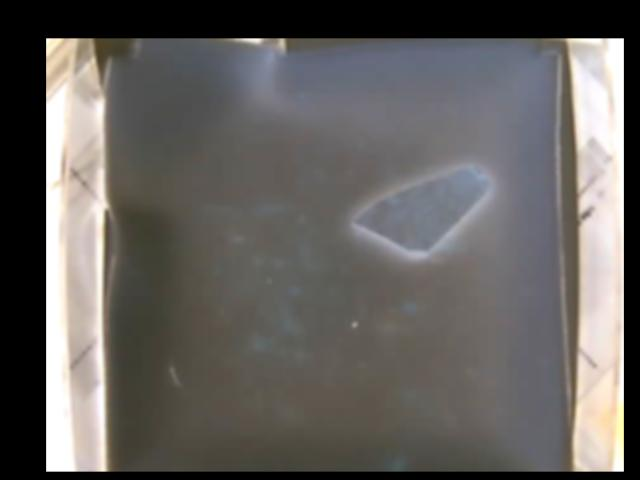China: (351, 165, 492, 255)
